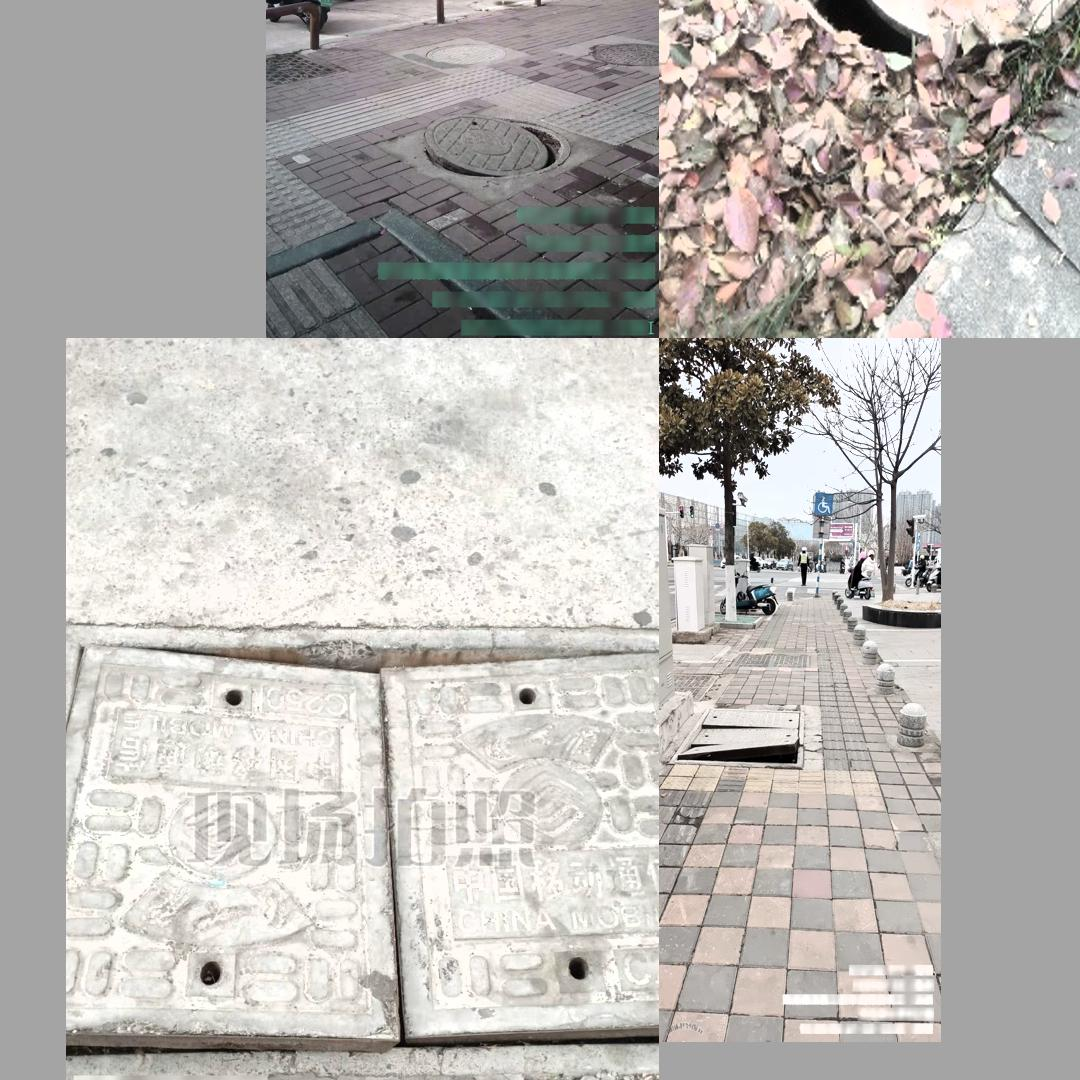good: (425, 43, 505, 69), (725, 648, 813, 671), (587, 42, 656, 64)
uncovered: (67, 616, 659, 1073), (782, 0, 1080, 62), (418, 108, 573, 177), (666, 703, 805, 768)
